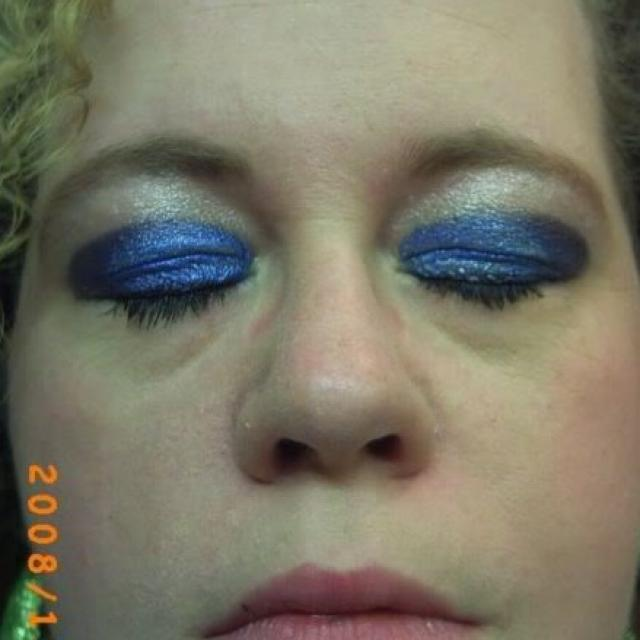Eyeclosed: (83, 250, 254, 330), (398, 235, 545, 311)
